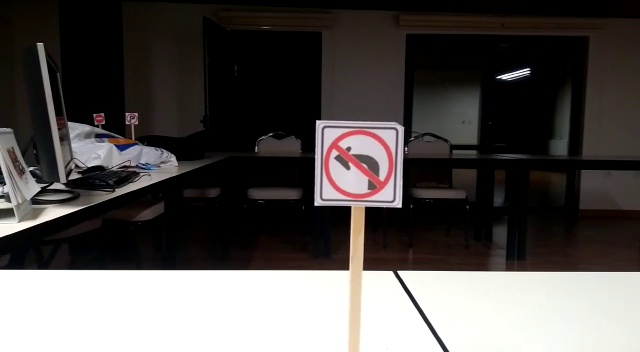sola_donulmez: (317, 120, 401, 205)
